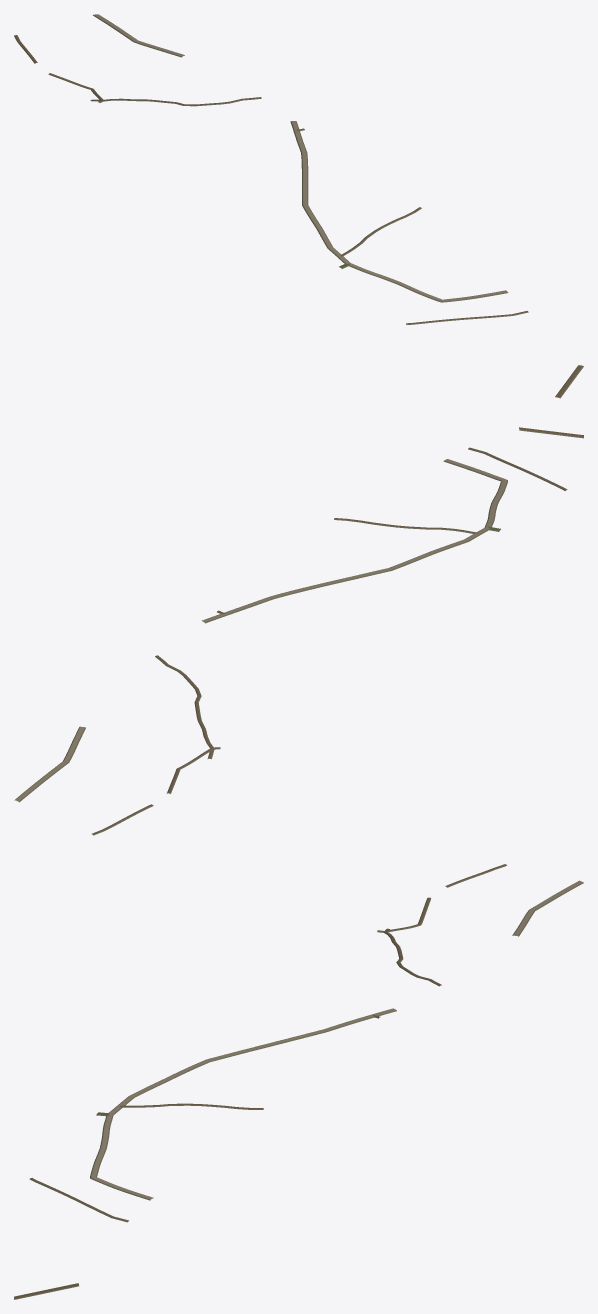
The picture shows the model from 3 angles, top to bottom: view 1: azimuth 30°, elevation 25°; view 2: azimuth 150°, elevation 25°; view 3: azimuth 330°, elevation 25°; orthographic projection. The views are drawn at different scales.
Visible parts, largest first — view 1: roads; view 2: roads; view 3: roads.
Boxes of the visible parts, left/top/right/bottom form: roads: left=14, top=14, right=583, bottom=398; roads: left=14, top=427, right=583, bottom=835; roads: left=14, top=864, right=583, bottom=1299.
Bounding box in the file's own units: 109 × 43.57 × 802.
